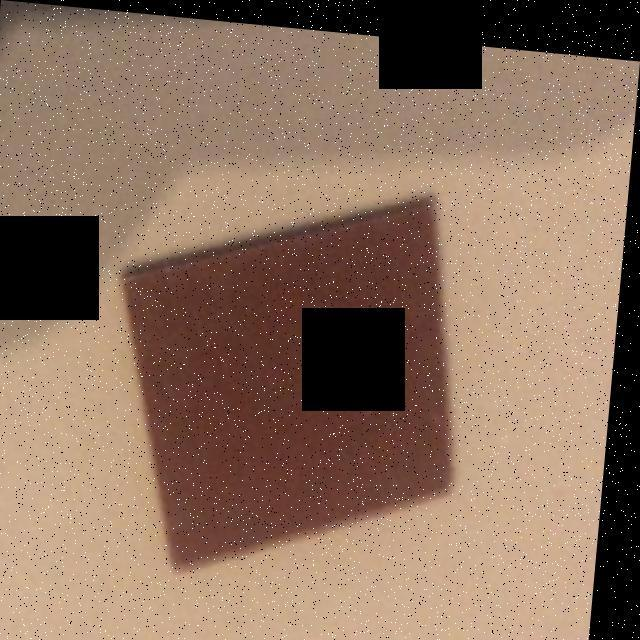chocolate: (130, 200, 458, 563)
